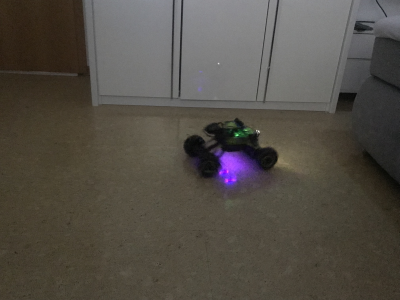remote control car: (181, 117, 280, 178)
